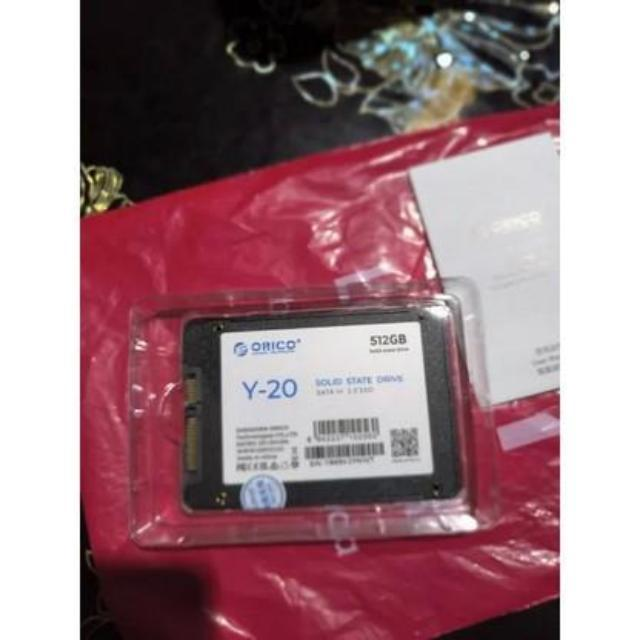DISK: (166, 314, 464, 512)
